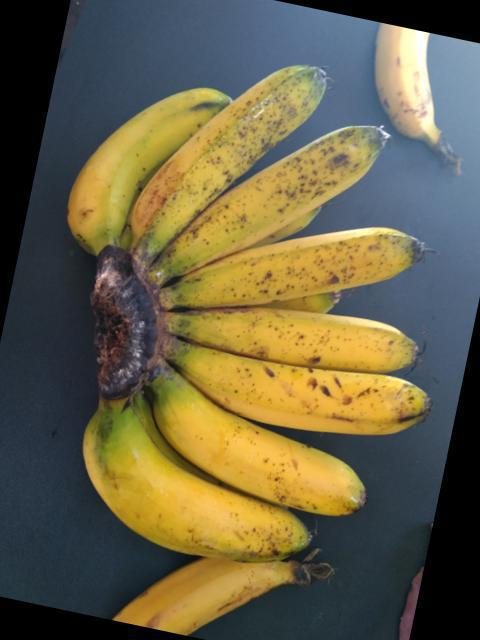ripe: (74, 419, 323, 579), (134, 60, 325, 245), (137, 375, 376, 521), (164, 123, 380, 273), (154, 213, 435, 323), (163, 345, 436, 451), (166, 310, 441, 358)
